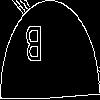B: (25, 25, 42, 72)
